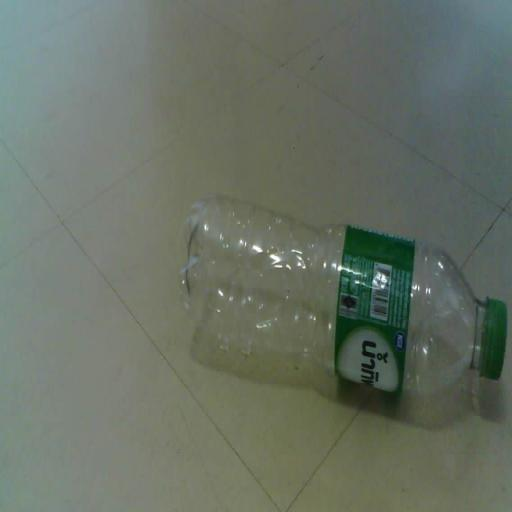bottle: (160, 169, 512, 440)
